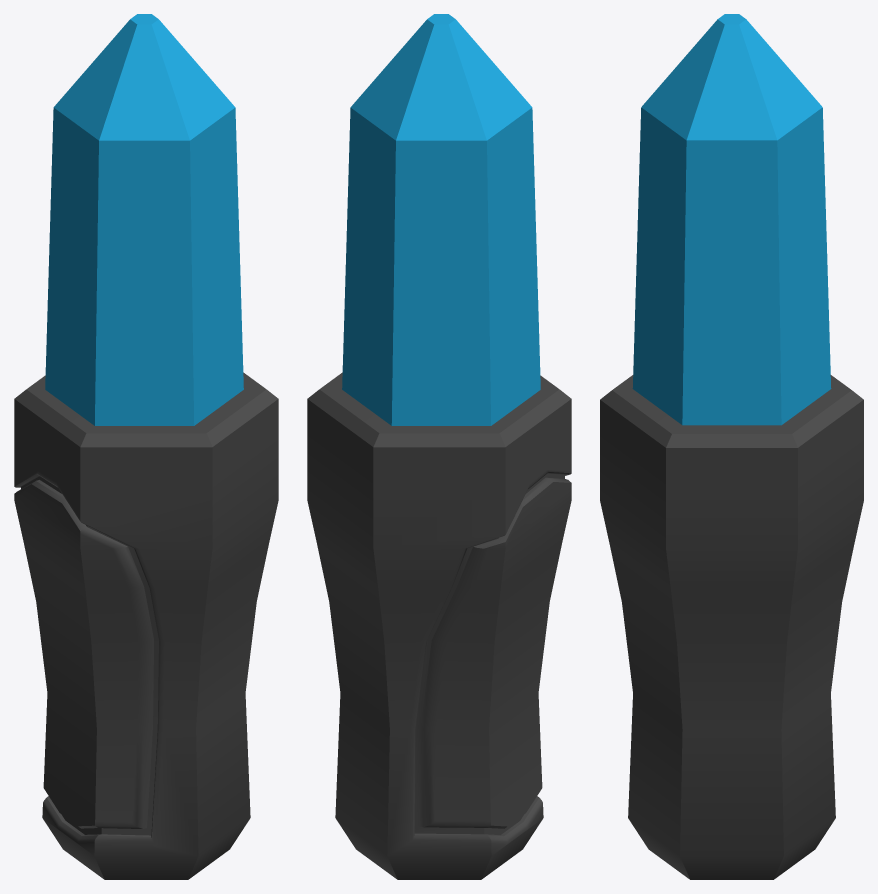
Rendered from Мелок.fbx.
3 views of the same model, side by side, from view 1: azimuth 30°, elevation 25°; view 2: azimuth 150°, elevation 25°; view 3: azimuth 270°, elevation 25° (orthographic).
Visible parts, largest first — view 1: Circle.001; view 2: Circle.001; view 3: Circle.001.
Part boxes in pixels (x1,y1,x2,y2): Circle.001: (14,14,278,879); Circle.001: (307,14,571,879); Circle.001: (600,14,863,879).
Bounding box in the file's own units: 274 × 1098 × 317.
